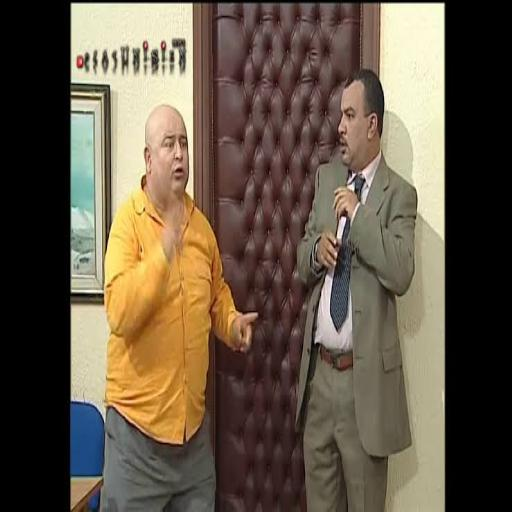sboui: (145, 105, 188, 210)
slimane: (338, 69, 384, 170)
